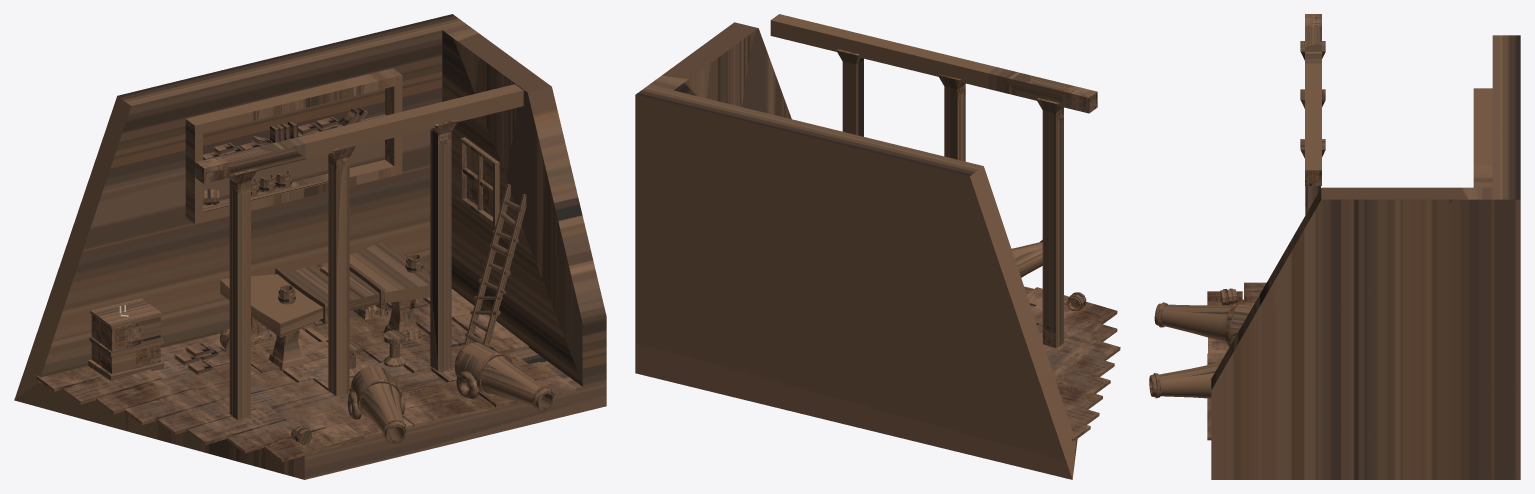
File: FIT1033 Environment Stage.gltf
3 views of the same model, side by side, from view 1: azimuth 30°, elevation 25°; view 2: azimuth 150°, elevation 25°; view 3: azimuth 270°, elevation 25° (orthographic).
Parts seen in each view (by area): view 1: polySurface61, polySurface38, pCube80, pCube7, bookshelf, pCylinder23 (×2), box, polySurface88, window, stool; view 2: polySurface61, pCube80, polySurface38, pCylinder23; view 3: polySurface61, pCylinder23 (×2), pCube80, bookshelf, polySurface38.
Boxes of the visible parts, left/top/right/bottom form: polySurface61: left=14, top=14, right=606, bottom=479; polySurface38: left=36, top=289, right=576, bottom=462; pCube80: left=195, top=84, right=523, bottom=420; pCube7: left=220, top=242, right=430, bottom=373; bookshelf: left=185, top=68, right=402, bottom=224; pCylinder23 (×2): left=347, top=342, right=554, bottom=443; box: left=88, top=298, right=163, bottom=380; polySurface88: left=464, top=184, right=526, bottom=347; window: left=460, top=137, right=499, bottom=225; stool: left=383, top=330, right=405, bottom=367; polySurface61: left=635, top=22, right=1077, bottom=479; pCube80: left=770, top=14, right=1097, bottom=347; polySurface38: left=1024, top=286, right=1120, bottom=441; pCylinder23: left=1011, top=240, right=1042, bottom=277; polySurface61: left=1211, top=35, right=1520, bottom=479; pCylinder23 (×2): left=1149, top=302, right=1252, bottom=398; pCube80: left=1300, top=14, right=1325, bottom=214; bookshelf: left=1473, top=88, right=1492, bottom=187; polySurface38: left=1207, top=282, right=1266, bottom=440.
Size of what is drawn, in the model's own units: 6.57 by 4.16 by 4.8.
16 materials, 16 textured.
